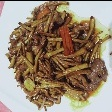chashugu: (3, 0, 112, 112)
